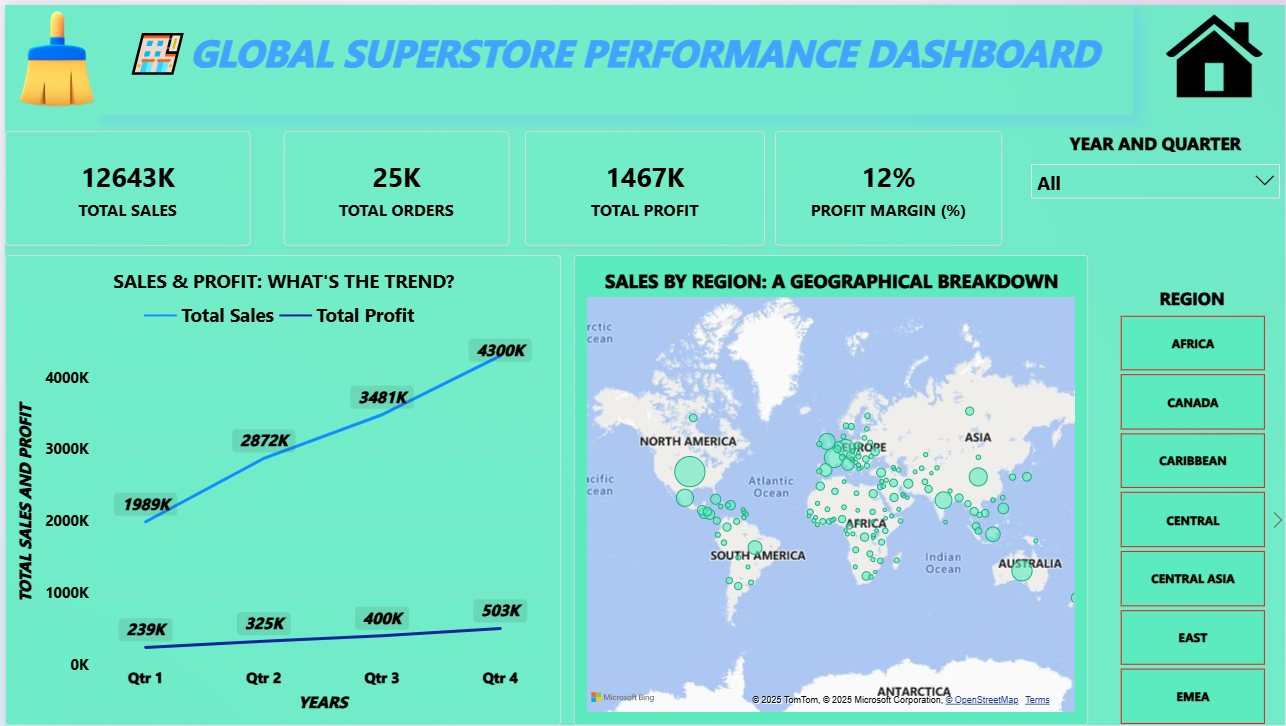

The page's visual inventory and layout, read from the dashboard file:
{"tool":"powerbi","page":{"name":" EXECUTIVE SUMMARY & FINANCIAL OVERVIEW","canvas":[1280,720],"ordinal":0},"visuals":[{"type":"textbox","box":[90,0,1037.5,110],"z":0},{"type":"card","fields":{"Values":["Orders.Total Sales"]},"box":[0,125.7,245.7,114.3],"z":1000},{"type":"card","fields":{"Values":["Orders.Total Profit"]},"box":[520,125.7,240,114.3],"z":2000},{"type":"card","fields":{"Values":["Orders.Total Orders"]},"box":[278.6,125.7,225.7,114.3],"z":3000},{"type":"card","fields":{"Values":["Orders.Profit Margin (%)"]},"box":[770,125.7,227.1,114.3],"z":4000},{"type":"lineChart","title":"SALES & PROFIT: WHAT''S THE TREND?","fields":{"Category":["Orders.Order Date.Variation.Date Hierarchy.Year","Orders.Order Date.Variation.Date Hierarchy.Quarter"],"Y":["Orders.Total Sales","Orders.Total Profit"]},"box":[0,250,555.7,470],"z":5000},{"type":"slicer","title":"YEAR AND QUARTER","fields":{"Values":["Orders.Order Date.Variation.Date Hierarchy.Year","Orders.Order Date.Variation.Date Hierarchy.Quarter"]},"box":[1021.4,125.7,258.6,114.3],"z":6000},{"type":"map","title":"SALES BY REGION: A GEOGRAPHICAL BREAKDOWN","fields":{"Category":["Orders.Country","Orders.City","Orders.State"],"Size":["Orders.Total Sales"]},"box":[568.6,250,514.3,470],"z":7000},{"type":"slicer","title":"REGION","fields":{"Values":["Orders.Region"]},"box":[1095.5,280.8,184,439.4],"z":8000},{"type":"image","box":[1151.4,0,115.7,110],"z":9000},{"type":"image","box":[0,0,104.3,110],"z":10000}]}

Visuals, with their boxes in screenshot pixels (x1, y1, x2, y2), scaled from the page's 1280x720 canvas onto the 1286x726 screenshot:
textbox: rect(90, 0, 1133, 111)
card - Orders.Total Sales: rect(0, 127, 247, 242)
card - Orders.Total Profit: rect(522, 127, 764, 242)
card - Orders.Total Orders: rect(280, 127, 507, 242)
card - Orders.Profit Margin (%): rect(774, 127, 1002, 242)
"SALES & PROFIT: WHAT''S THE TREND?" lineChart: rect(0, 252, 558, 725)
"YEAR AND QUARTER" slicer: rect(1026, 127, 1285, 242)
"SALES BY REGION: A GEOGRAPHICAL BREAKDOWN" map: rect(571, 252, 1088, 725)
"REGION" slicer: rect(1101, 283, 1285, 725)
image: rect(1157, 0, 1273, 111)
image: rect(0, 0, 105, 111)
